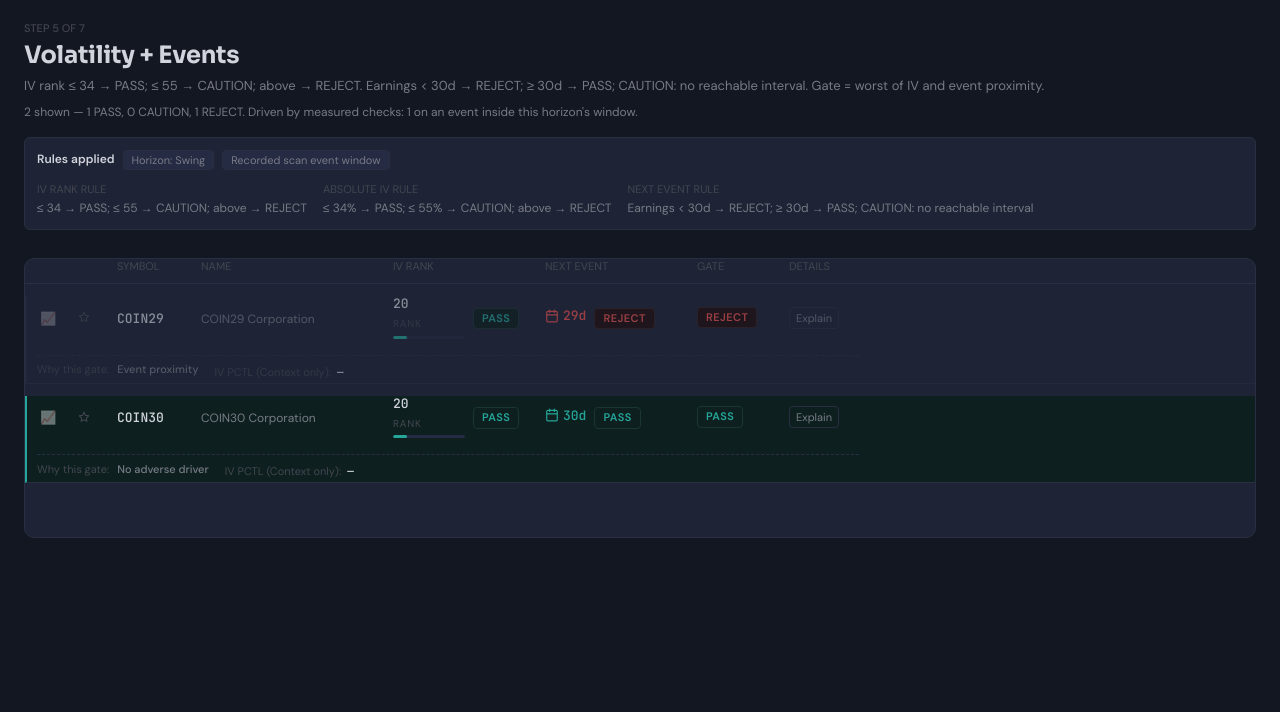
Test: AC2: Exact numeric boundaries across horizons and bases › Coincident event boundaries: reject_days === caution_days leaves no reachable CAUTION interval
Check: the text "Earnings < 30d → REJECT; ≥ 30d → PASS; CAUTION: no reachable interval." is shown, box [366,77,808,94]
Check: the element that starts with "Rules applied" shows "Earnings < 30d → REJECT; ≥ 30d → PASS; CAUTION: no reachable interval", box [628,200,1033,216]
What coordinates should you click on to do the following:
click the button "Explain" in the row of "COIN29 Corporation"
I would click on:
 (814, 318)
Its box is [789,307,839,329].
(page scrolled)
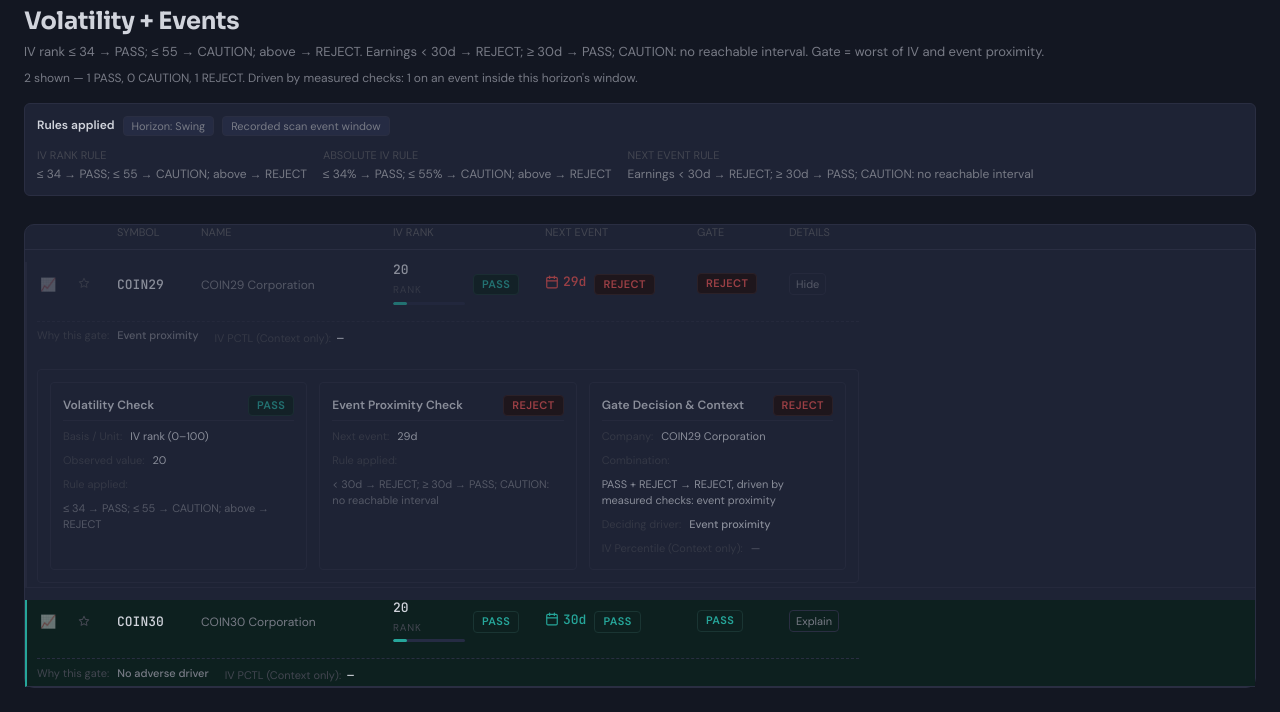
Check: the element named "Gate details for COIN29" shows "< 30d → REJECT; ≥ 30d → PASS; CAUTION: no reachable interval", box [332,477,549,507]
Check: the button "Hide" has attribute aria-expanded, box [789,273,826,295]
Check: the element named "Gate details for COIN29" shows "Volatility Check", box [63,397,154,413]
